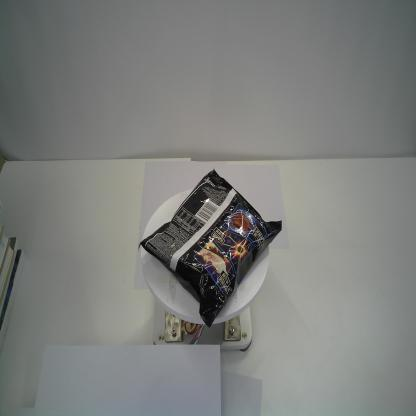Instant Noodles: (137, 166, 283, 333)
